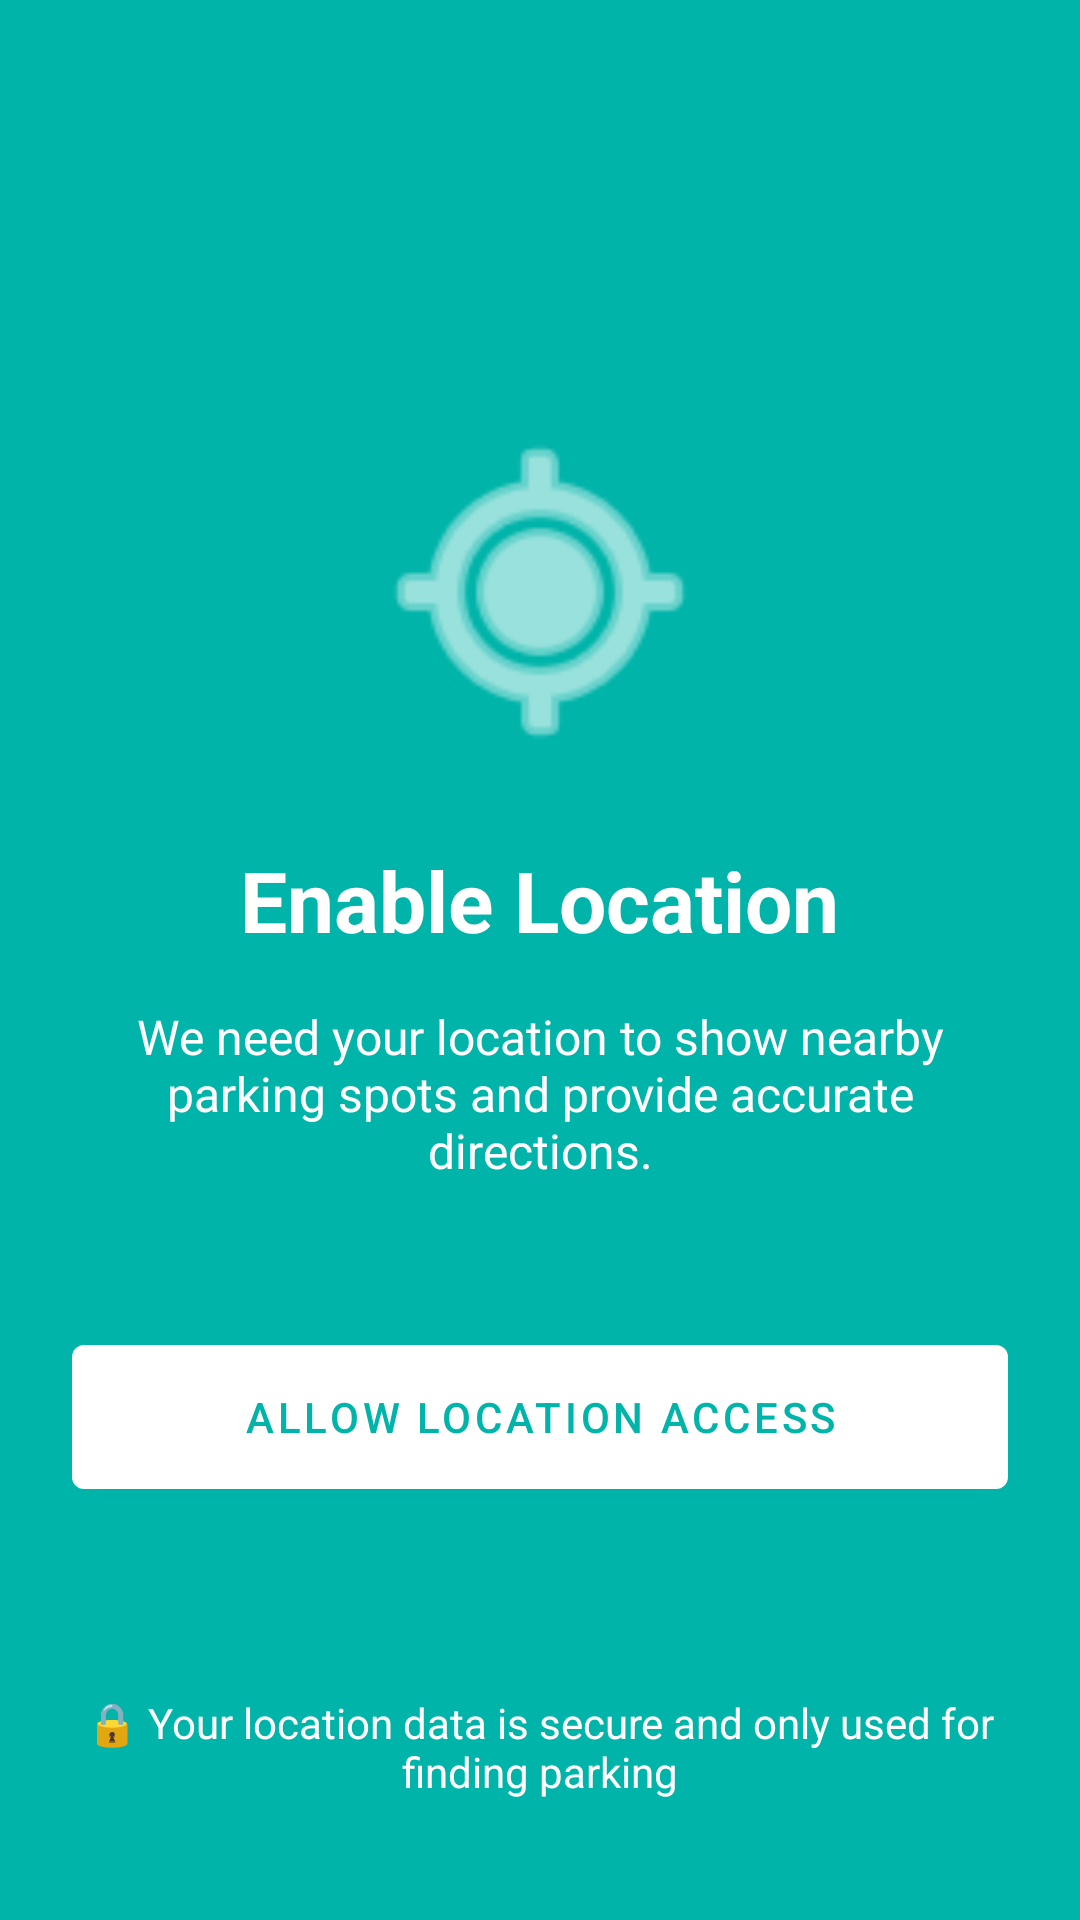

Icon click points for this 1080px×1920px phone screenshot, format (x,y):
mylocation: (540,592)
